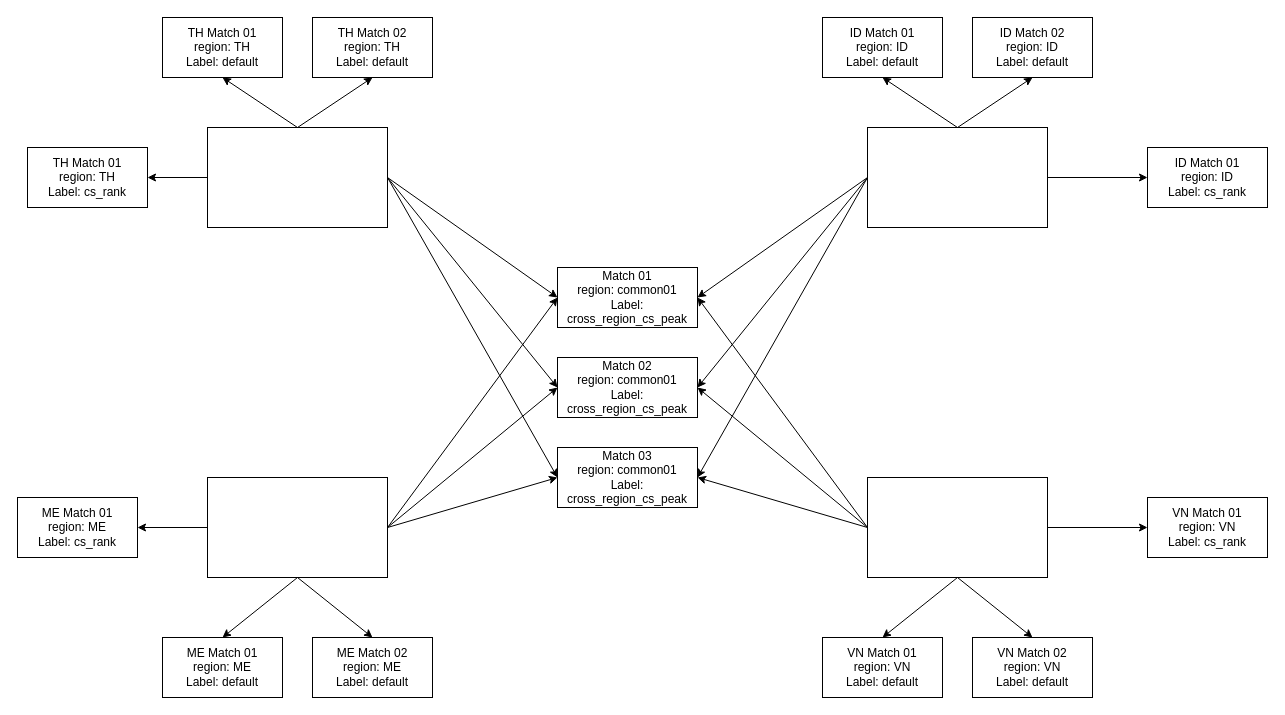
This 1285x715 diagram has some shape labels left out. The centre of each missing label's shape, as x and y in pixels:
ID Players: the point at 957,177
ME Players: the point at 297,527
TH Players: the point at 297,177
VN Players: the point at 957,527
